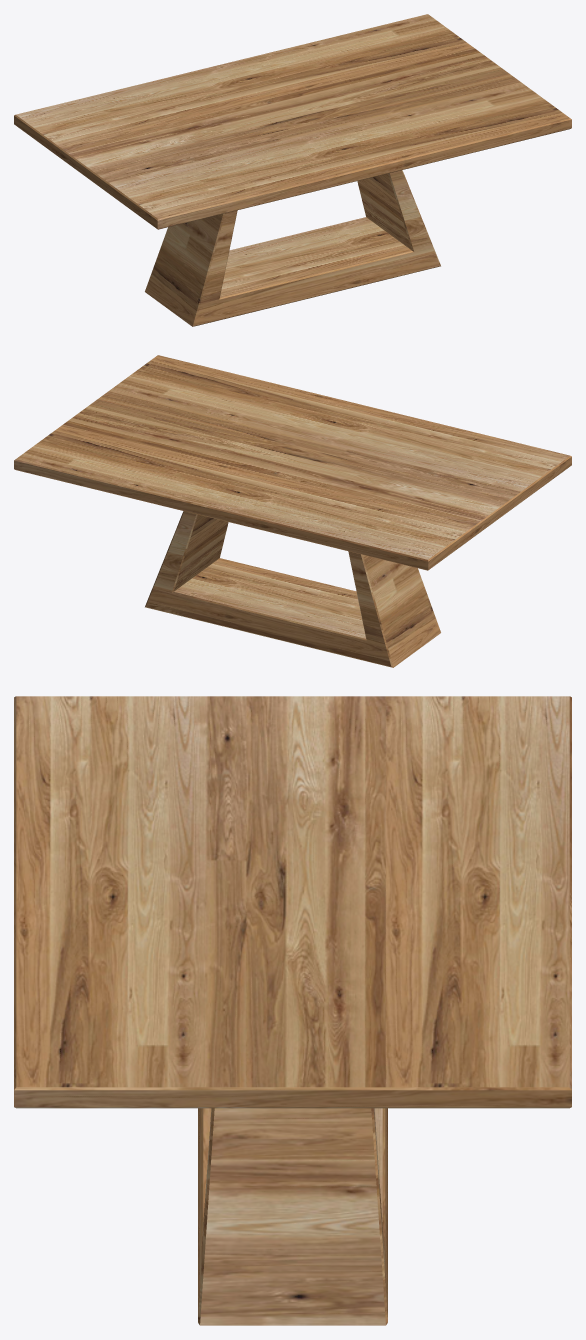
3 renders of one model, top to bottom at view 1: azimuth 30°, elevation 25°; view 2: azimuth 150°, elevation 25°; view 3: azimuth 270°, elevation 25°, orthographic. The views are drawn at different scales.
Parts seen in each view (by area): view 1: tampo, Group_1; view 2: tampo, Group_1; view 3: tampo, Group_1.
Boxes of the visible parts, x1,y1,x2,y2 form: tampo: (14,14,571,229); Group_1: (145,170,440,326); tampo: (14,355,571,570); Group_1: (145,511,440,667); tampo: (14,696,571,1108); Group_1: (198,1108,387,1325).
Size of the model in its own units: 78.74 by 47.24 by 29.53.
1 material, 1 textured.
